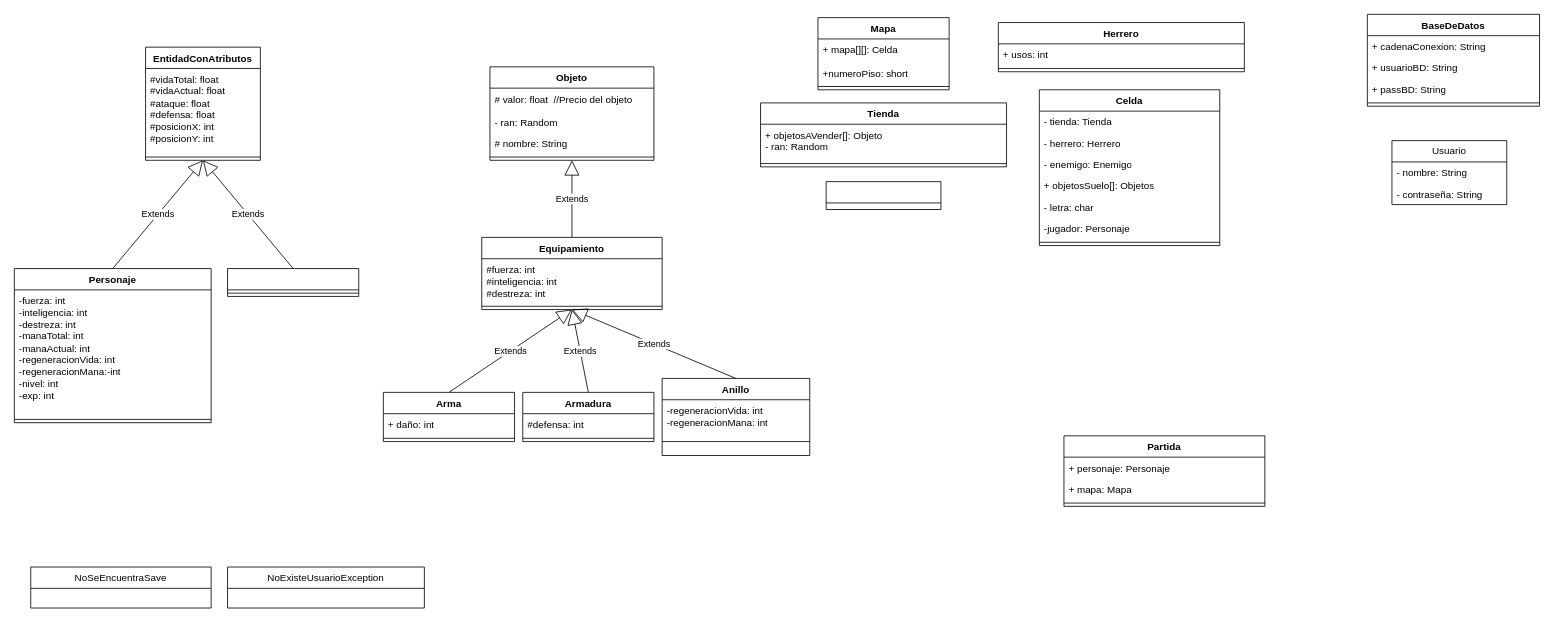
The diagram is 1554 pixels wide and 622 high, and some of its shapes have lost their labels. The centre of each missing label's shape, as x and y in pixels:
"Enemigo" belongs at (293,282).
"Funciones" belongs at (883,195).
